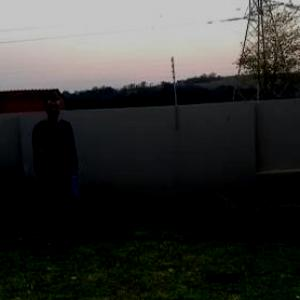follow: (31, 93, 81, 244)
